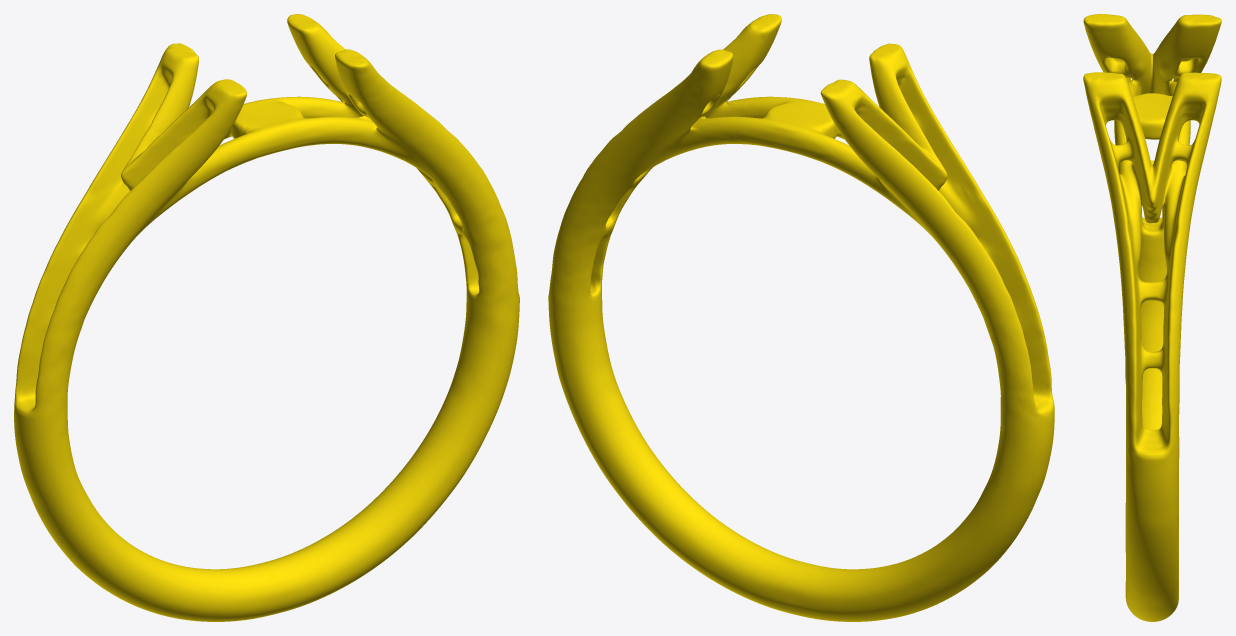
The model's file is Shank_Split_Channel_A_Single Halo_Band.glb.
3 renders of one model, left to right at view 1: azimuth 30°, elevation 25°; view 2: azimuth 150°, elevation 25°; view 3: azimuth 270°, elevation 25°, orthographic.
Size of the model in its own units: 0.0212 by 0.0227 by 0.0052.
